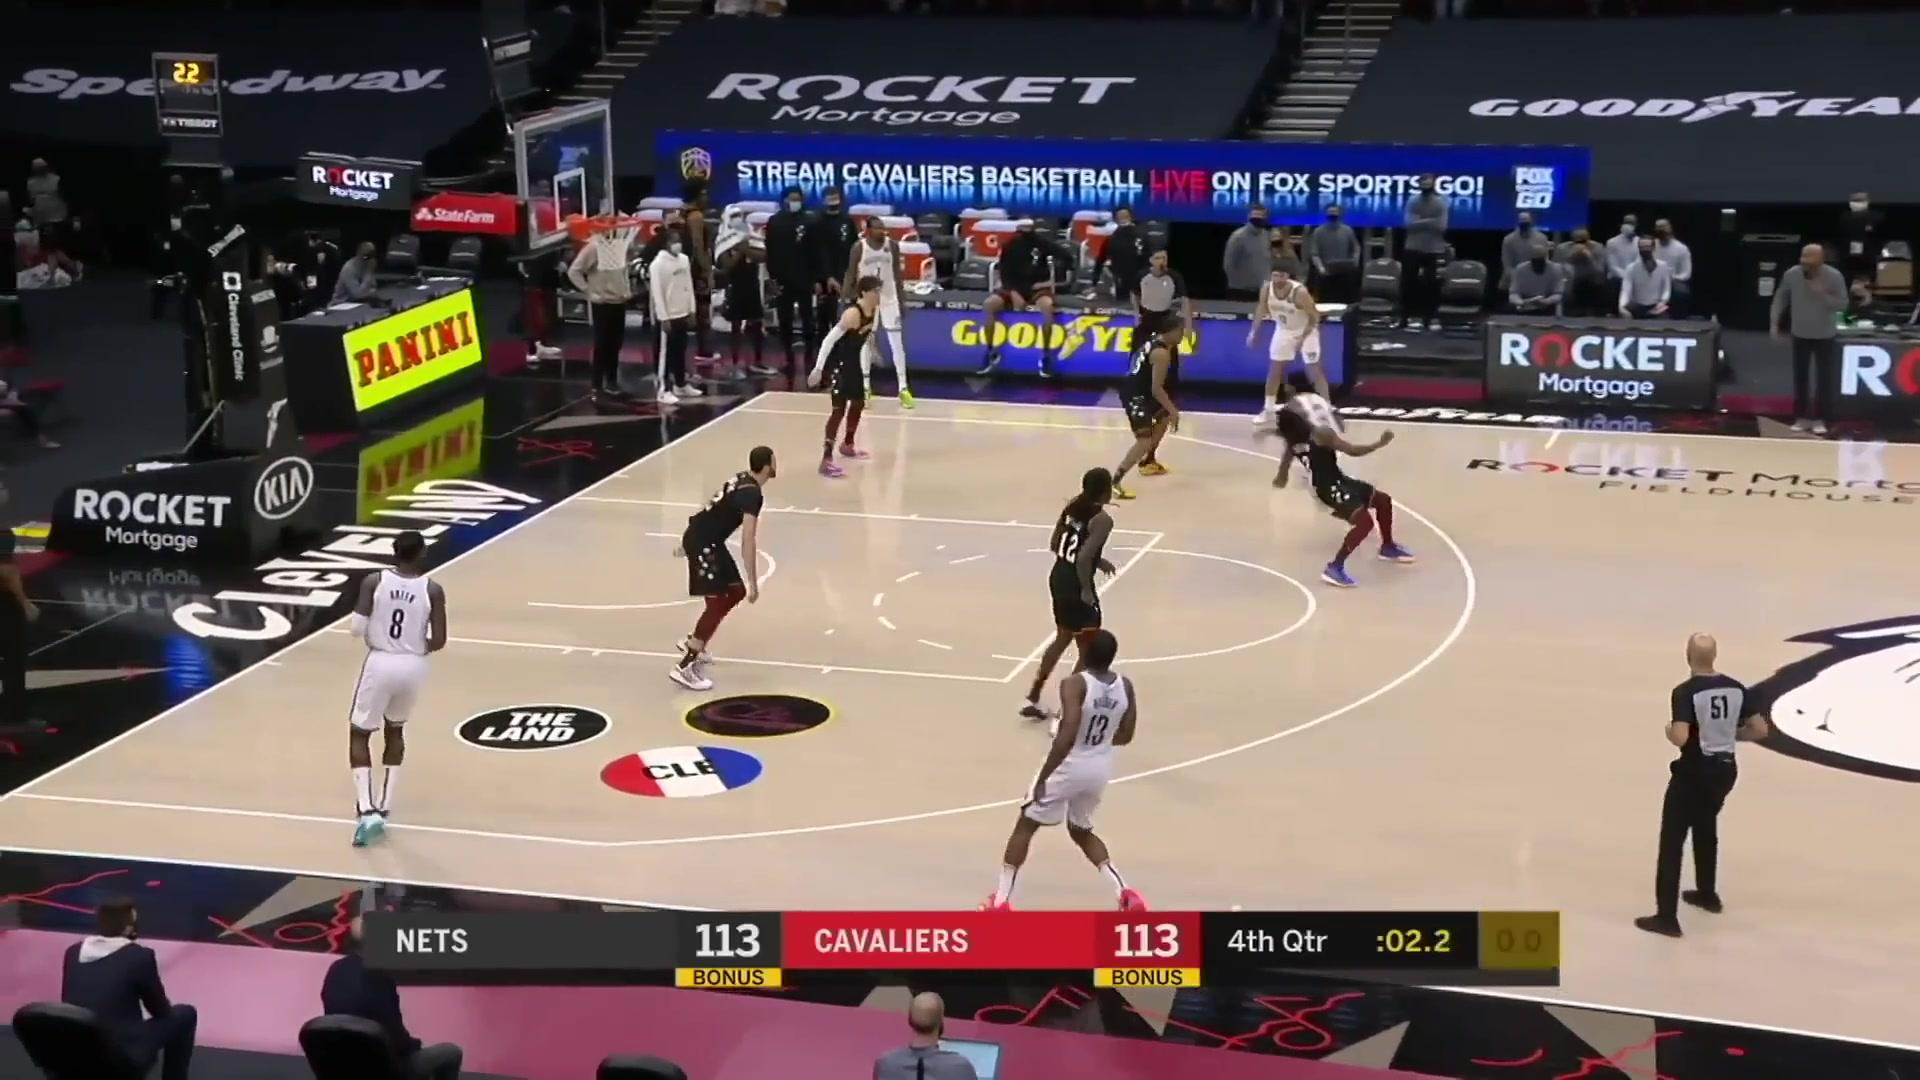foul: (1269, 361, 1416, 580)
